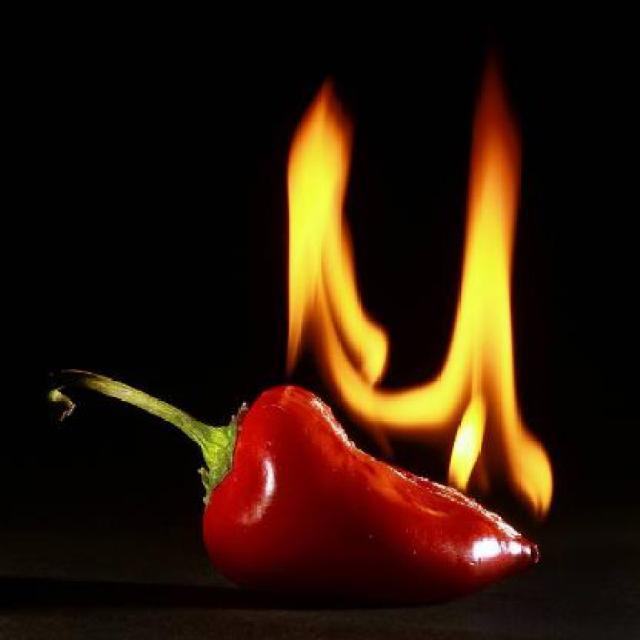Fire: (280, 76, 554, 514)
